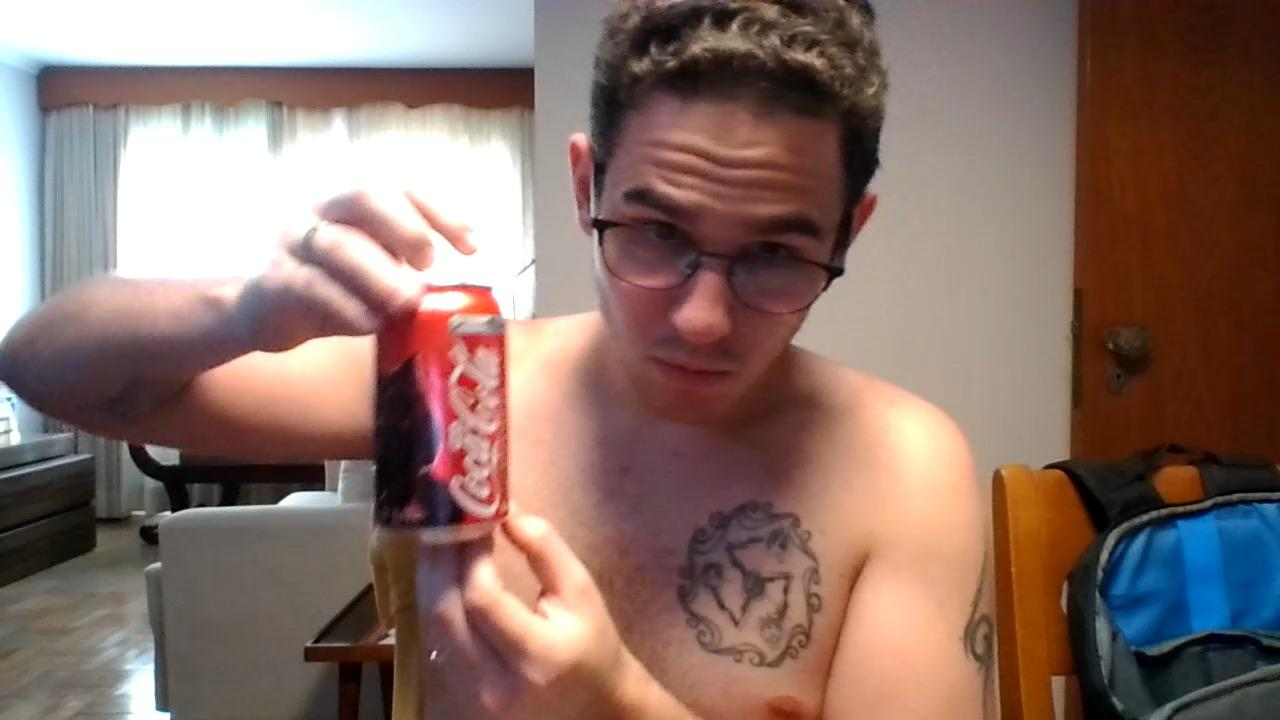coke: (367, 286, 511, 543)
